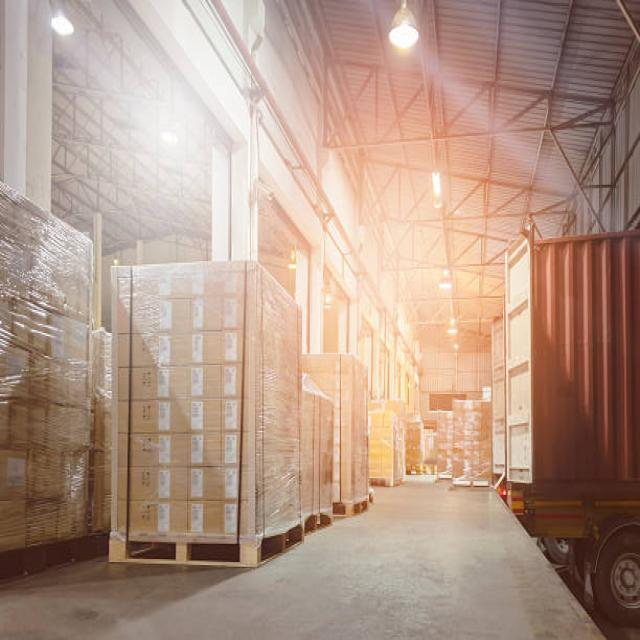Wooden-Pallets: (102, 495, 372, 568), (106, 521, 302, 567), (337, 490, 378, 528)
